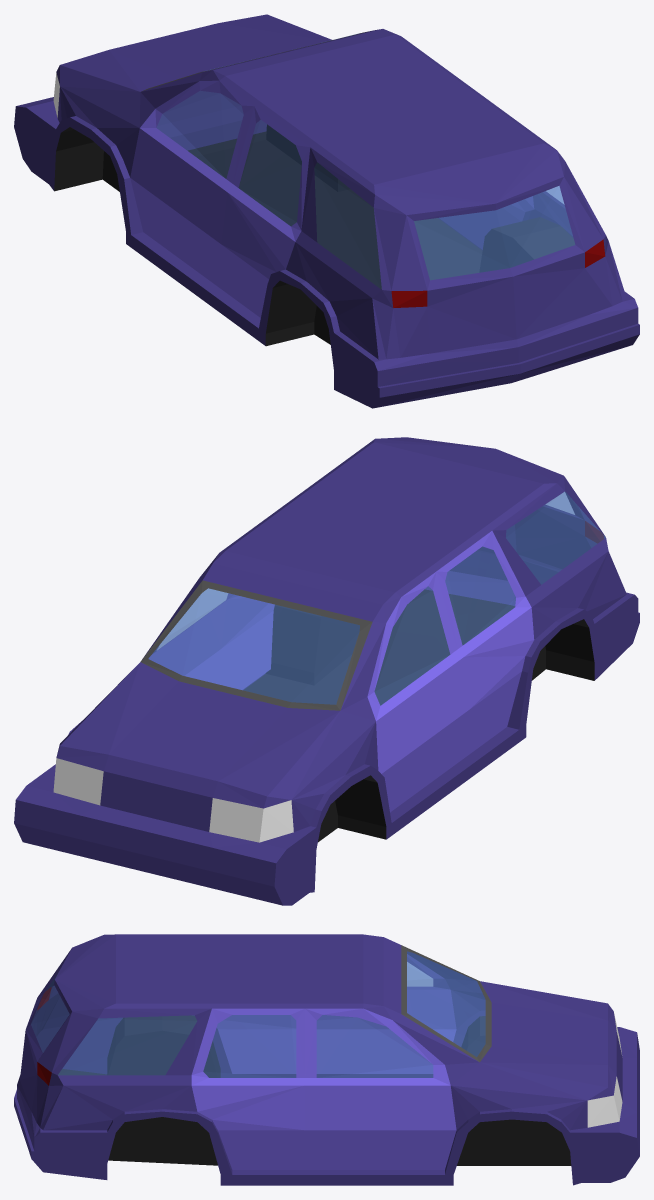
The model's file is Enforcer.fbx.
3 views of the same model, one above another, from view 1: azimuth 30°, elevation 25°; view 2: azimuth 150°, elevation 25°; view 3: azimuth 270°, elevation 25° (orthographic). The views are drawn at different scales.
Visible parts, largest first — view 1: _(Loose Entity); view 2: _(Loose Entity); view 3: _(Loose Entity).
Boxes of the visible parts, x1,y1,x2,y2 form: _(Loose Entity): (14, 14, 639, 408); _(Loose Entity): (14, 437, 639, 905); _(Loose Entity): (14, 934, 639, 1185).
Bounding box in the file's own units: 218 × 157 × 546.
